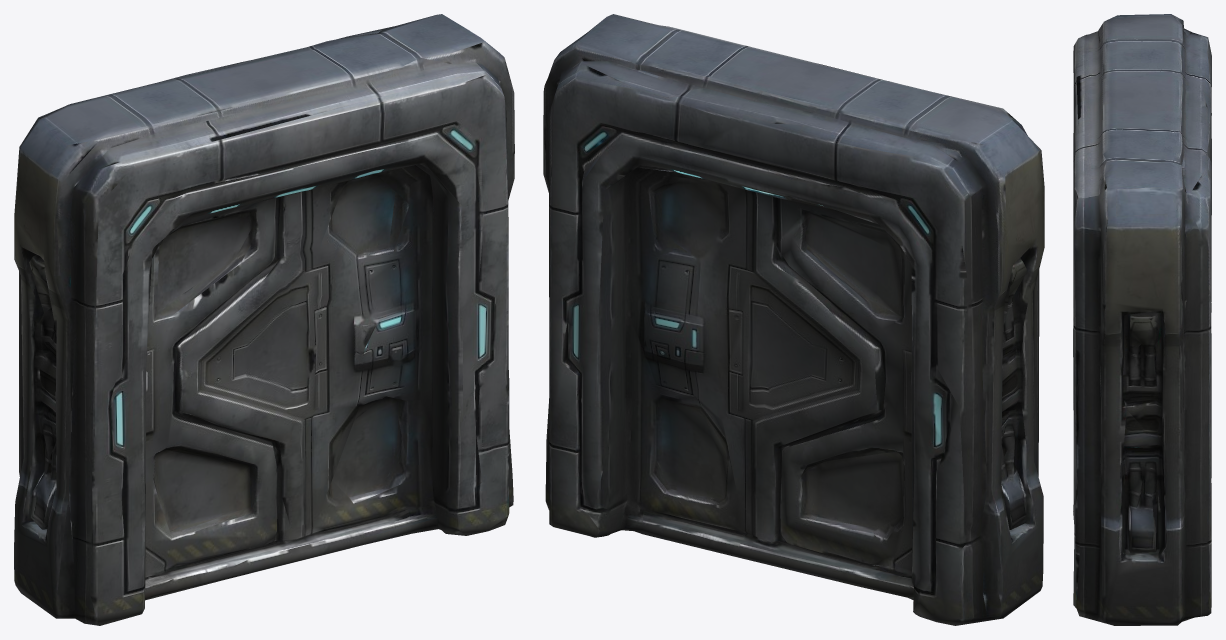
File: porte_blindee.glb
3 views of the same model, side by side, from view 1: azimuth 30°, elevation 25°; view 2: azimuth 150°, elevation 25°; view 3: azimuth 270°, elevation 25° (orthographic). The views are drawn at different scales.
Visible parts, largest first — view 1: tripo_node_61f0097a-8479-4159-9342-180a7fae5ddf; view 2: tripo_node_61f0097a-8479-4159-9342-180a7fae5ddf; view 3: tripo_node_61f0097a-8479-4159-9342-180a7fae5ddf.
Boxes of the visible parts, x1,y1,x2,y2 form: tripo_node_61f0097a-8479-4159-9342-180a7fae5ddf: (14, 14, 514, 625); tripo_node_61f0097a-8479-4159-9342-180a7fae5ddf: (543, 14, 1044, 625); tripo_node_61f0097a-8479-4159-9342-180a7fae5ddf: (1073, 14, 1211, 625).
Size of the model in its own units: 0.9995 by 0.9803 by 0.2886.
Materials: 1 (1 with a texture image).
